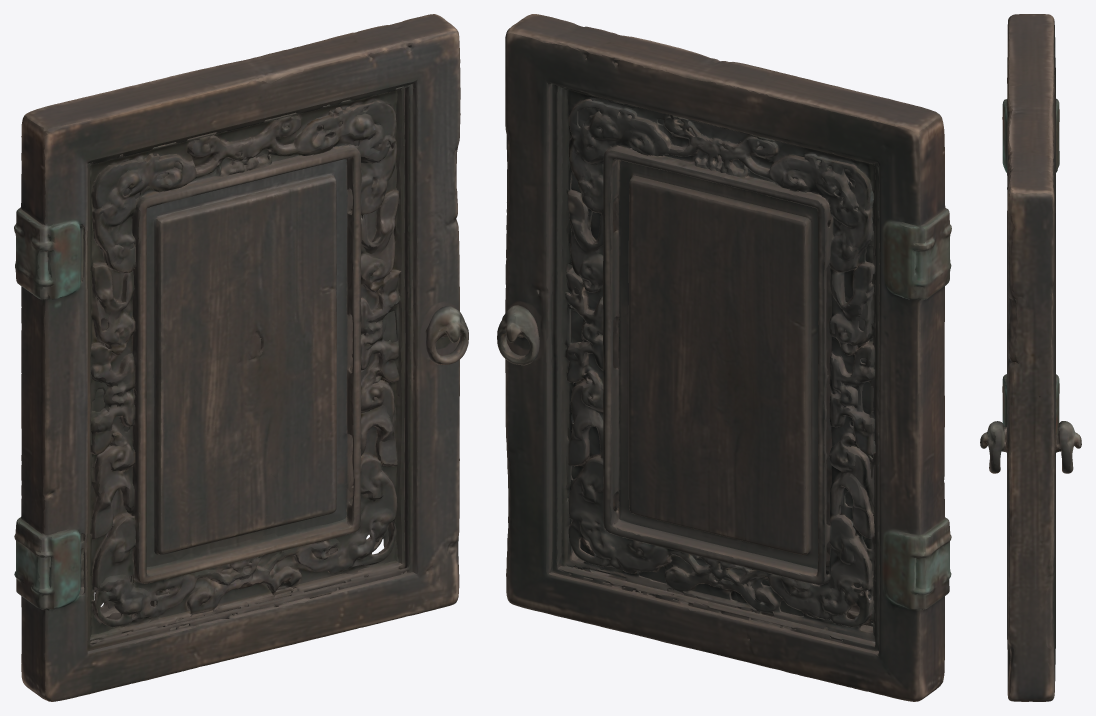
Rendered from S1-08_cabinet_door_A.glb.
The picture shows the model from 3 angles, left to right: view 1: azimuth 30°, elevation 25°; view 2: azimuth 150°, elevation 25°; view 3: azimuth 270°, elevation 25°; orthographic projection. The views are drawn at different scales.
Parts seen in each view (by area): view 1: geometry_0; view 2: geometry_0; view 3: geometry_0.
Part boxes in pixels (left/top/right/bottom): geometry_0: left=14, top=14, right=468, bottom=701; geometry_0: left=497, top=14, right=951, bottom=701; geometry_0: left=980, top=14, right=1081, bottom=701.
Size of the model in its own units: 1.55 by 2 by 0.36.
Materials: 1 (1 with a texture image).
